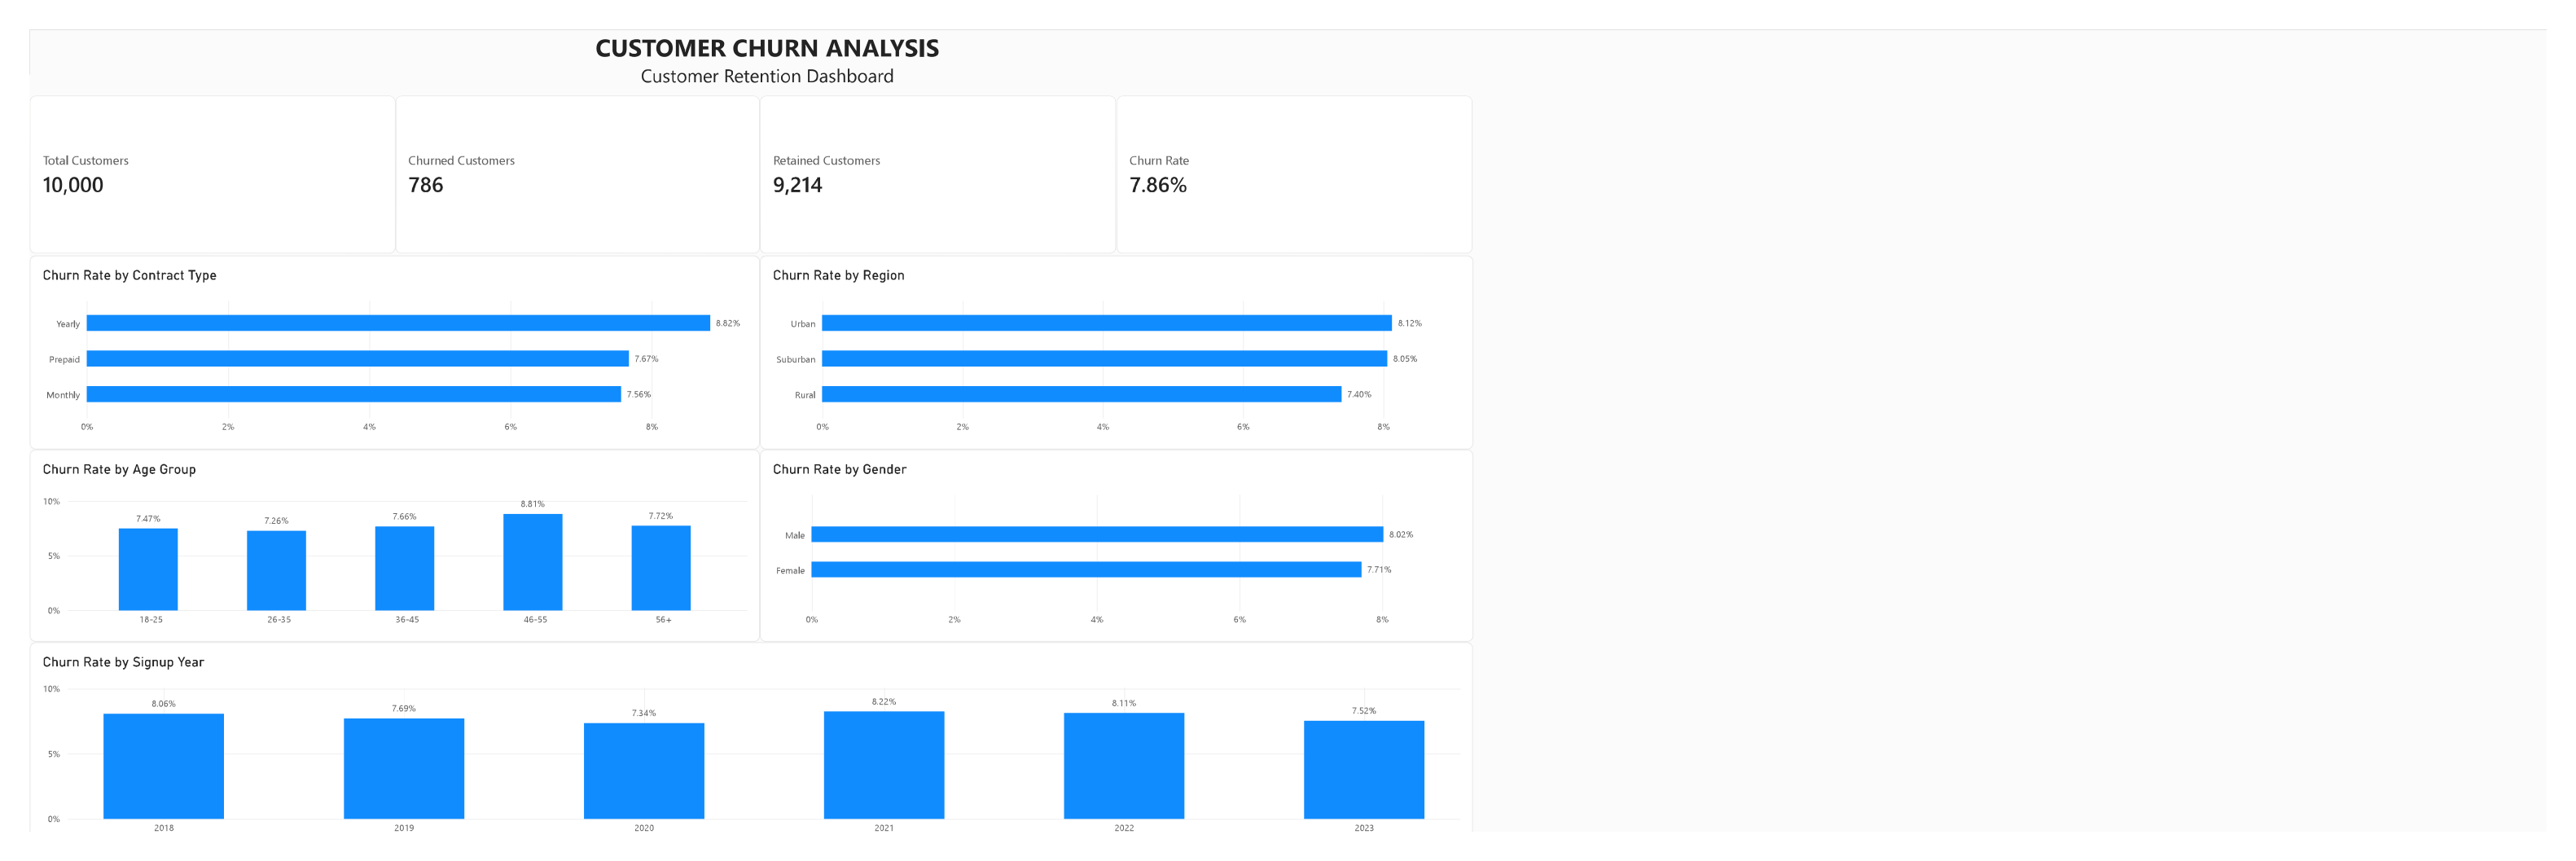

The dashboard page shown, as its layout file describes it:
{"tool":"powerbi","page":{"name":"Page 1","canvas":[1920,1080],"ordinal":0},"visuals":[{"type":"cardVisual","fields":{"Data":["customers_clean.Total Customers"]},"box":[0,85.9,481,208.6],"z":0,"group":"g1"},{"type":"clusteredColumnChart","title":"Churn Rate by Signup Year","fields":{"Category":["customers_clean.SignupYear"],"Y":["customers_clean.Churn Rate"]},"box":[0,805.2,1898.3,274.1],"z":0},{"type":"textbox","box":[0,0,1898.3,79.3],"z":1000},{"type":"cardVisual","fields":{"Data":["customers_clean.Churned Customers"]},"box":[481,86,479.3,208.6],"z":1000,"group":"g1"},{"type":"group","id":"g1","title":"Group 1","box":[0,85.9,1898.3,719.2],"z":2000},{"type":"cardVisual","fields":{"Data":["customers_clean.Retained Customers"]},"box":[960.3,86.1,469,208.6],"z":2000,"group":"g1"},{"type":"cardVisual","fields":{"Data":["customers_clean.Churn Rate"]},"box":[1429.3,86.1,469,208.6],"z":3000,"group":"g1"},{"type":"clusteredBarChart","title":" Churn Rate by Contract Type","fields":{"Category":["customers_clean.ContractType"],"Y":["customers_clean.Churn Rate"]},"box":[0,296.5,960.3,255.2],"z":4000,"group":"g1"},{"type":"clusteredBarChart","title":"Churn Rate by Region","fields":{"Category":["customers_clean.Region"],"Y":["customers_clean.Churn Rate"]},"box":[960.3,296.5,937.9,255.2],"z":5000,"group":"g1"},{"type":"clusteredBarChart","title":"Churn Rate by Gender","fields":{"Category":["customers_clean.Gender"],"Y":["customers_clean.Churn Rate"]},"box":[960.3,551.7,937.9,253.4],"z":6000,"group":"g1"},{"type":"clusteredColumnChart","title":"Churn Rate by Age Group","fields":{"Category":["customers_clean.AgeGroup"],"Y":["customers_clean.Churn Rate"]},"box":[0,551.7,960.3,253.4],"z":7000,"group":"g1"}]}

Visuals, with their boxes on the page's 1920x1080 design canvas (x1, y1, x2, y2). These are canvas units, not pixel positions in the 2576x861 screenshot, which may show the page scaled, cropped or inside an application window:
cardVisual - customers_clean.Total Customers: locate(0, 86, 481, 294)
"Churn Rate by Signup Year" clusteredColumnChart: locate(0, 805, 1898, 1079)
textbox: locate(0, 0, 1898, 79)
cardVisual - customers_clean.Churned Customers: locate(481, 86, 960, 295)
"Group 1" group: locate(0, 86, 1898, 805)
cardVisual - customers_clean.Retained Customers: locate(960, 86, 1429, 295)
cardVisual - customers_clean.Churn Rate: locate(1429, 86, 1898, 295)
" Churn Rate by Contract Type" clusteredBarChart: locate(0, 296, 960, 552)
"Churn Rate by Region" clusteredBarChart: locate(960, 296, 1898, 552)
"Churn Rate by Gender" clusteredBarChart: locate(960, 552, 1898, 805)
"Churn Rate by Age Group" clusteredColumnChart: locate(0, 552, 960, 805)
